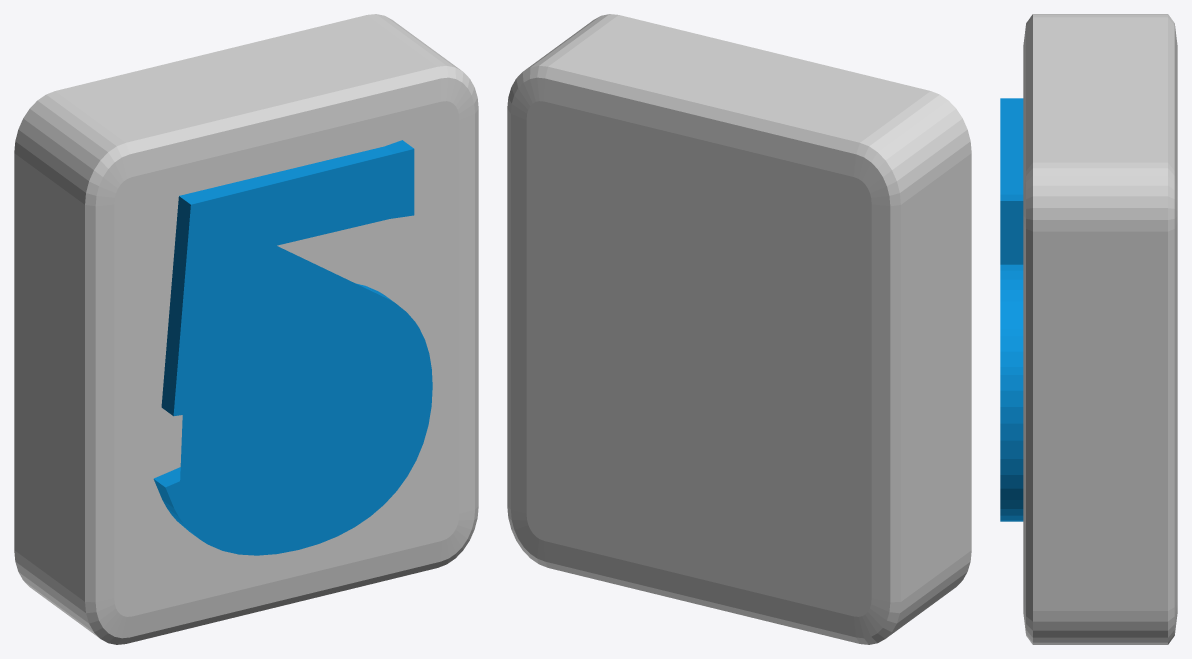
The picture shows the model from 3 angles, left to right: view 1: azimuth 30°, elevation 25°; view 2: azimuth 150°, elevation 25°; view 3: azimuth 270°, elevation 25°; orthographic projection. The views are drawn at different scales.
Parts seen in each view (by area): view 1: Box5; view 2: Box5; view 3: Box5.
Boxes of the visible parts, x1=… form: Box5: x1=14, y1=14, x2=478, y2=644; Box5: x1=507, y1=14, x2=971, y2=644; Box5: x1=1000, y1=14, x2=1177, y2=644.
Bounding box in the file's own units: 56.15 × 68.31 × 22.91.
